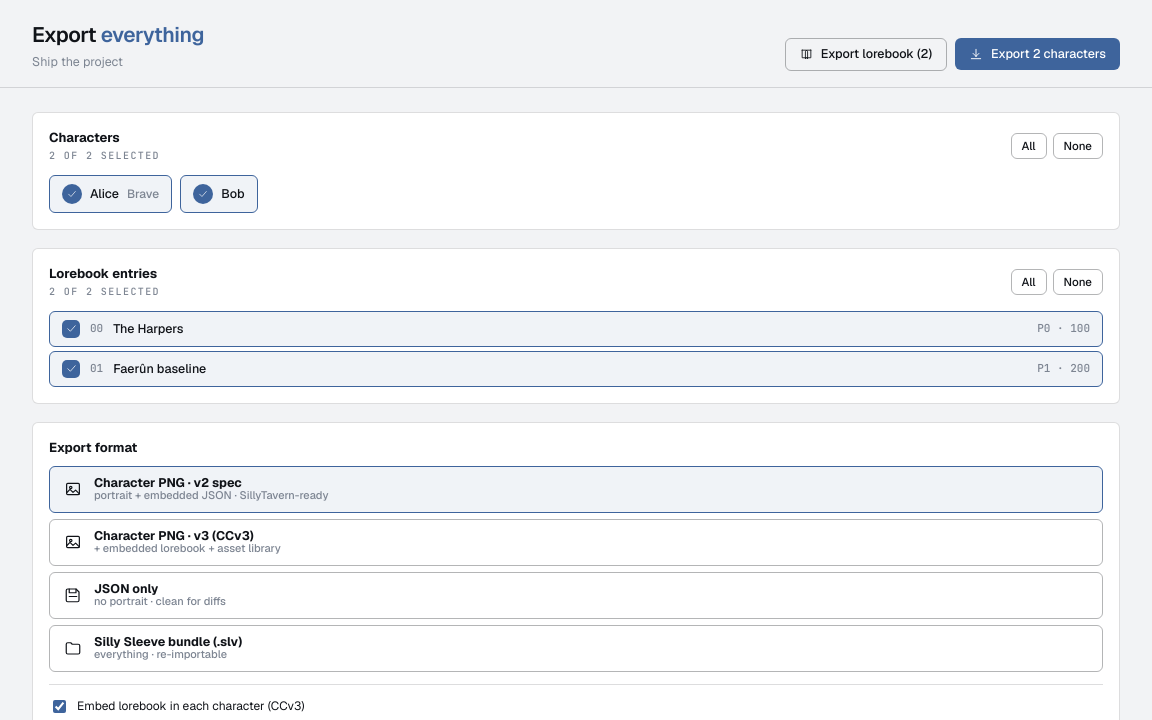
Scenario: ExportScreen › toggles a single character off
Click the button "Alice Brave". click: (111, 194)
box: [49,175,172,213]
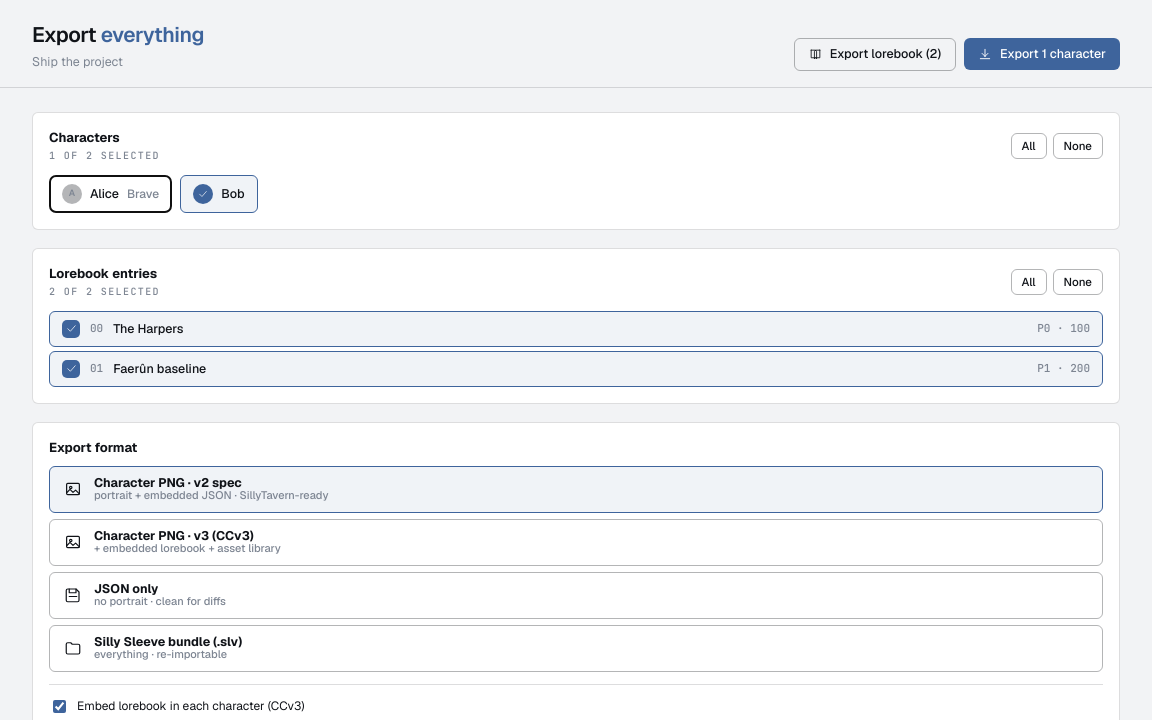
expect the text "1 of 2 selected" is shown: met, box [49,149,160,162]
